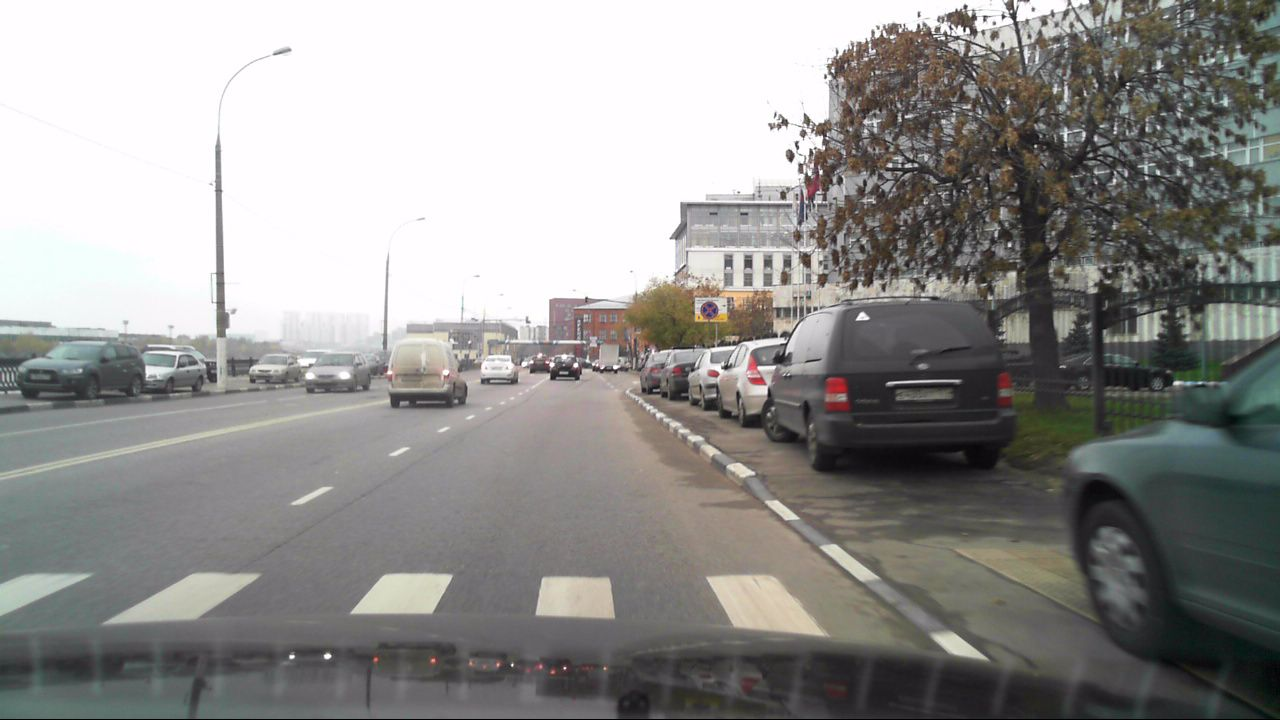No Parking: (700, 299, 718, 319)
